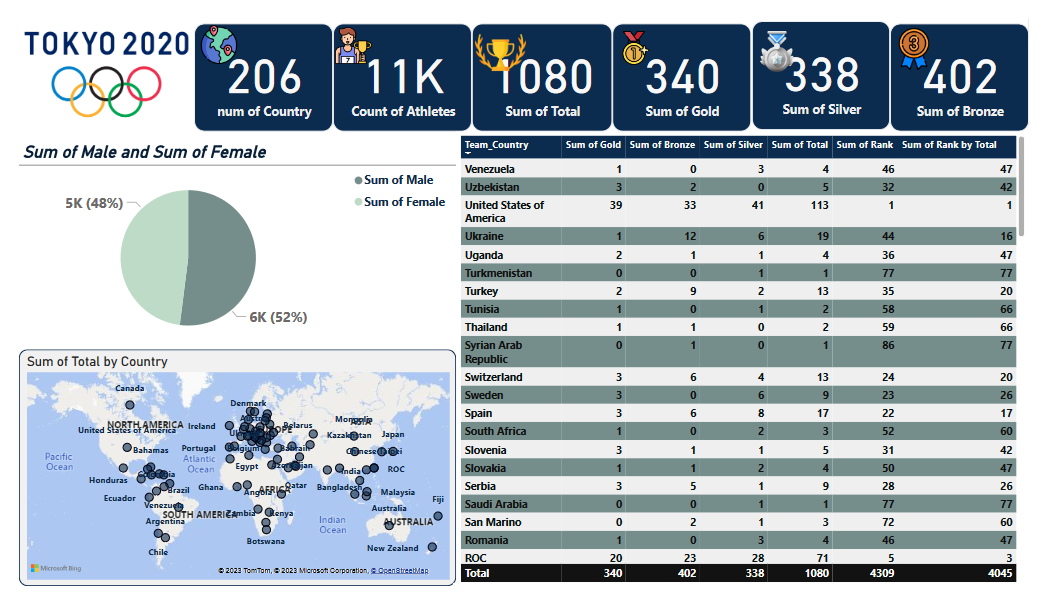

The page's visual inventory and layout, read from the dashboard file:
{"tool":"powerbi","page":{"name":"Page 1","canvas":[1280,720],"ordinal":0},"visuals":[{"type":"card","fields":{"Values":["Sum(Medals.Silver)"]},"box":[929.3,4.3,174.9,138],"z":0},{"type":"card","fields":{"Values":["Teams.Count of Athletes"]},"box":[397.7,7.5,176,136.5],"z":1000},{"type":"card","fields":{"Values":["Teams.num of Country"]},"box":[221.8,7.5,176,136.5],"z":2000},{"type":"card","fields":{"Values":["Sum(Medals.Bronze)"]},"box":[1104.2,7.5,176,136.5],"z":3000},{"type":"card","fields":{"Values":["Sum(Medals.Total)"]},"box":[573.7,7.5,178.5,136.5],"z":4000},{"type":"card","fields":{"Values":["Sum(Medals.Gold)"]},"box":[752.2,7.5,176,136.5],"z":5000},{"type":"image","box":[0,0,221.8,142.6],"z":6000},{"type":"map","fields":{"Size":["Sum(Medals.Total)"],"Category":["Teams.Country"]},"box":[0,420.5,554.4,299.5],"z":7000},{"type":"tableEx","fields":{"Values":["Medals.Team_Country","Sum(Medals.Gold)","Sum(Medals.Bronze)","Sum(Medals.Silver)","Sum(Medals.Total)","Sum(Medals.Rank)","Sum(Medals.Rank by Total)"]},"box":[554.4,144,725.8,576],"z":8000},{"type":"image","box":[211.7,4.3,82.1,59],"z":8001},{"type":"image","box":[384.5,7.2,79.2,56.2],"z":8002},{"type":"image","box":[737.3,11.5,87.8,53.3],"z":8003},{"type":"image","box":[1103,7.2,63.4,64.8],"z":8004},{"type":"pieChart","fields":{"Y":["Sum(EntriesGender.Male)","Sum(EntriesGender.Female)"]},"box":[0,157,554.4,263.5],"z":8005},{"type":"image","box":[927.4,11.5,66.2,61.9],"z":8006},{"type":"image","box":[573.1,7.2,73.4,73.4],"z":8007}]}

Visuals, with their boxes in screenshot pixels (x1, y1, x2, y2), scaled from the page's 1280x720 canvas onto the 1046x597 screenshot:
card - Sum(Medals.Silver): detection(759, 4, 902, 118)
card - Teams.Count of Athletes: detection(325, 6, 469, 119)
card - Teams.num of Country: detection(181, 6, 325, 119)
card - Sum(Medals.Bronze): detection(902, 6, 1045, 119)
card - Sum(Medals.Total): detection(469, 6, 615, 119)
card - Sum(Medals.Gold): detection(615, 6, 759, 119)
image: detection(0, 0, 181, 118)
map - Sum(Medals.Total) x Teams.Country: detection(0, 349, 453, 596)
tableEx - Medals.Team_Country x Sum(Medals.Gold): detection(453, 119, 1045, 596)
image: detection(173, 4, 240, 52)
image: detection(314, 6, 379, 53)
image: detection(603, 10, 674, 54)
image: detection(901, 6, 953, 60)
pieChart - Sum(EntriesGender.Male) x Sum(EntriesGender.Female): detection(0, 130, 453, 349)
image: detection(758, 10, 812, 61)
image: detection(468, 6, 528, 67)
